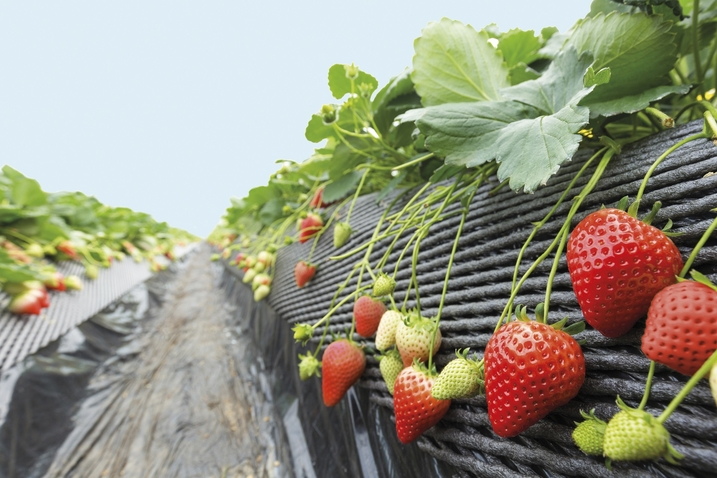ripe: (561, 211, 680, 345), (483, 313, 589, 445), (638, 267, 715, 381), (393, 365, 449, 449), (321, 337, 361, 410), (350, 288, 390, 340), (298, 214, 322, 246), (293, 258, 315, 289)
unripe: (603, 404, 676, 470), (396, 314, 448, 372), (433, 352, 480, 403), (571, 409, 615, 463), (371, 306, 417, 353), (374, 346, 417, 396), (370, 272, 397, 298), (300, 354, 322, 379), (333, 223, 351, 250), (291, 324, 312, 343), (252, 286, 271, 305)
